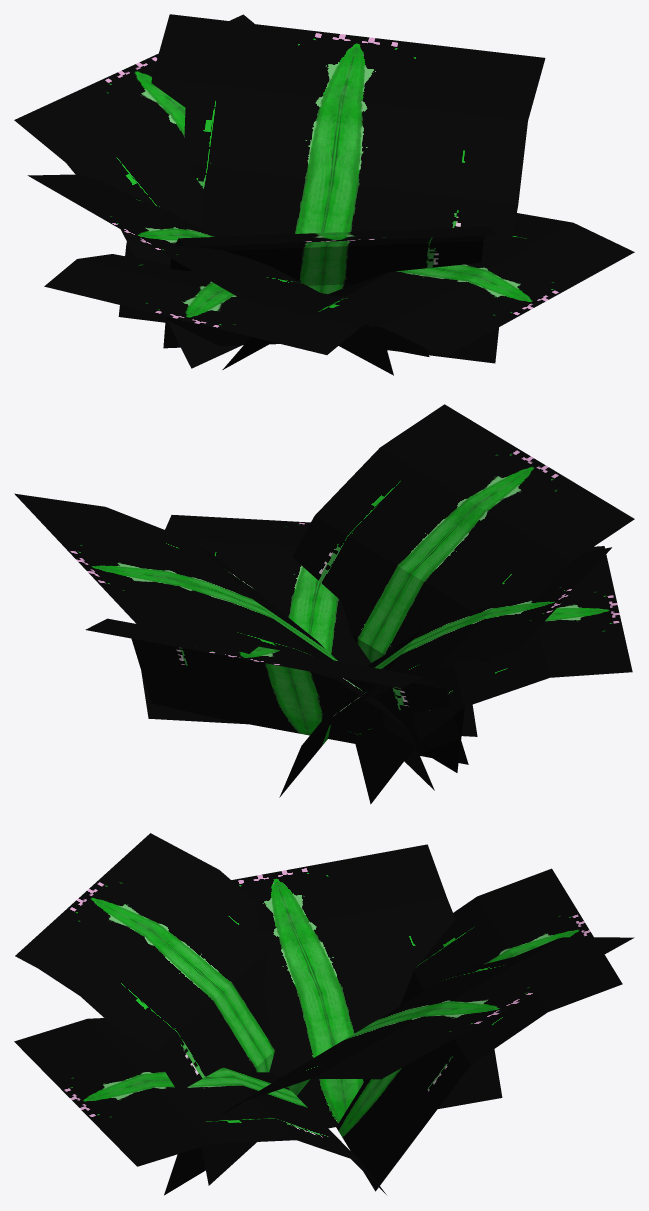
The model's file is Grass.fbx.
The picture shows the model from 3 angles, top to bottom: view 1: azimuth 30°, elevation 25°; view 2: azimuth 150°, elevation 25°; view 3: azimuth 270°, elevation 25°; orthographic projection. The views are drawn at different scales.
Parts seen in each view (by area): view 1: Plane.003; view 2: Plane.003; view 3: Plane.003.
Boxes of the visible parts, x1=… form: Plane.003: x1=14, y1=14, x2=634, y2=375; Plane.003: x1=14, y1=404, x2=634, y2=804; Plane.003: x1=14, y1=833, x2=634, y2=1195.
Size of the model in its own units: 400 by 145 by 387.
